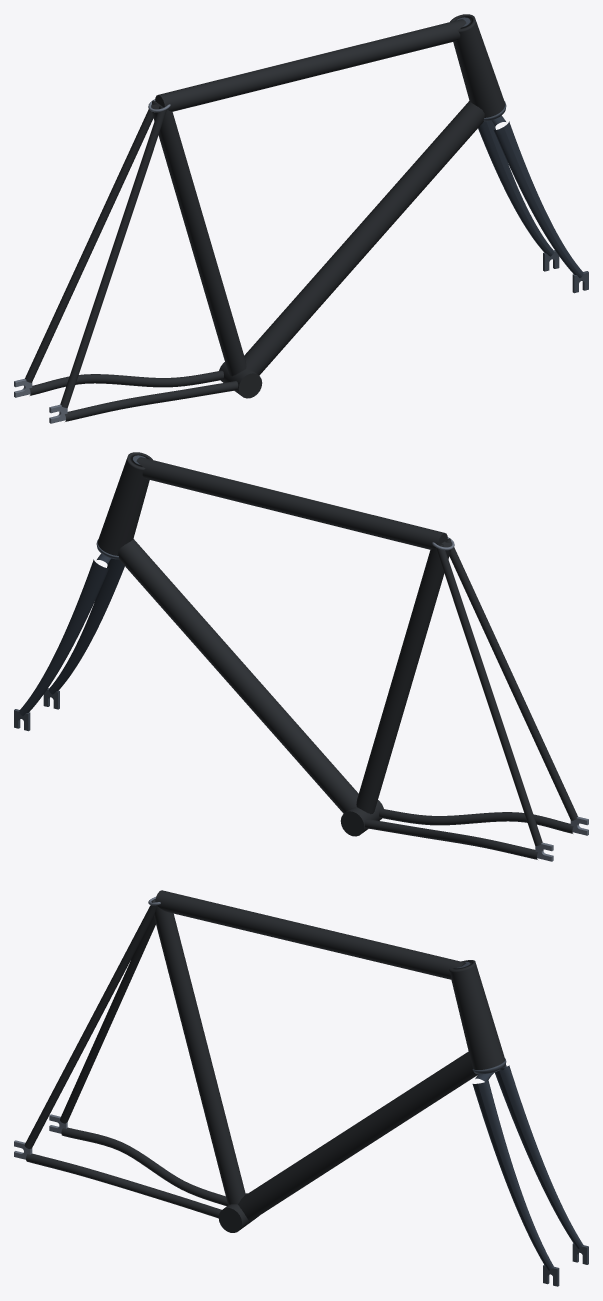
The model's file is 8bar-krzberg-v8-xl.glb.
The picture shows the model from 3 angles, top to bottom: view 1: azimuth 30°, elevation 25°; view 2: azimuth 150°, elevation 25°; view 3: azimuth 330°, elevation 25°; orthographic projection.
Visible parts, largest first — view 1: paint_down, paint_top, paint_seat, paint_head, paint_seatstay_1, paint_seatstay_-1, fork_blade_1, fork_blade_-1, paint_chainstay_-1, paint_chainstay_1, paint_bottom_bracket; view 2: paint_down, paint_top, paint_seat, paint_head, paint_seatstay_-1, paint_seatstay_1, fork_blade_-1, fork_blade_1, paint_chainstay_1, paint_chainstay_-1, paint_bottom_bracket; view 3: paint_down, paint_top, paint_seat, paint_head, fork_blade_1, paint_seatstay_1, fork_blade_-1, paint_chainstay_1, paint_seatstay_-1, paint_chainstay_-1, paint_bottom_bracket.
Part boxes in pixels (x1=…): paint_down: x1=244, y1=101, x2=484, y2=375; paint_top: x1=155, y1=19, x2=466, y2=111; paint_seat: x1=151, y1=103, x2=246, y2=376; paint_head: x1=450, y1=14, x2=505, y2=117; paint_seatstay_1: x1=60, y1=106, x2=166, y2=408; paint_seatstay_-1: x1=25, y1=100, x2=157, y2=382; fork_blade_1: x1=493, y1=121, x2=583, y2=277; fork_blade_-1: x1=478, y1=120, x2=553, y2=256; paint_chainstay_-1: x1=29, y1=370, x2=223, y2=395; paint_chainstay_1: x1=65, y1=381, x2=238, y2=421; paint_bottom_bracket: x1=219, y1=362, x2=262, y2=398; paint_down: x1=118, y1=539, x2=358, y2=813; paint_top: x1=136, y1=457, x2=447, y2=549; paint_seat: x1=356, y1=541, x2=451, y2=814; paint_head: x1=97, y1=452, x2=152, y2=555; paint_seatstay_-1: x1=436, y1=544, x2=542, y2=846; paint_seatstay_1: x1=445, y1=538, x2=577, y2=820; fork_blade_-1: x1=19, y1=559, x2=109, y2=715; fork_blade_1: x1=49, y1=558, x2=124, y2=694; paint_chainstay_1: x1=379, y1=808, x2=573, y2=833; paint_chainstay_-1: x1=364, y1=819, x2=537, y2=859; paint_bottom_bracket: x1=340, y1=800, x2=383, y2=836; paint_down: x1=238, y1=1051, x2=477, y2=1221; paint_top: x1=155, y1=890, x2=466, y2=979; paint_seat: x1=151, y1=899, x2=245, y2=1204; paint_head: x1=449, y1=960, x2=505, y2=1069; fork_blade_1: x1=472, y1=1080, x2=553, y2=1270; paint_seatstay_1: x1=24, y1=900, x2=157, y2=1148; fork_blade_-1: x1=494, y1=1065, x2=583, y2=1248; paint_chainstay_1: x1=26, y1=1153, x2=221, y2=1218; paint_seatstay_-1: x1=60, y1=917, x2=155, y2=1123; paint_chainstay_-1: x1=61, y1=1127, x2=227, y2=1206; paint_bottom_bracket: x1=218, y1=1193, x2=258, y2=1232.
Size of the model in its own units: 1.06 by 0.5939 by 0.1397.
